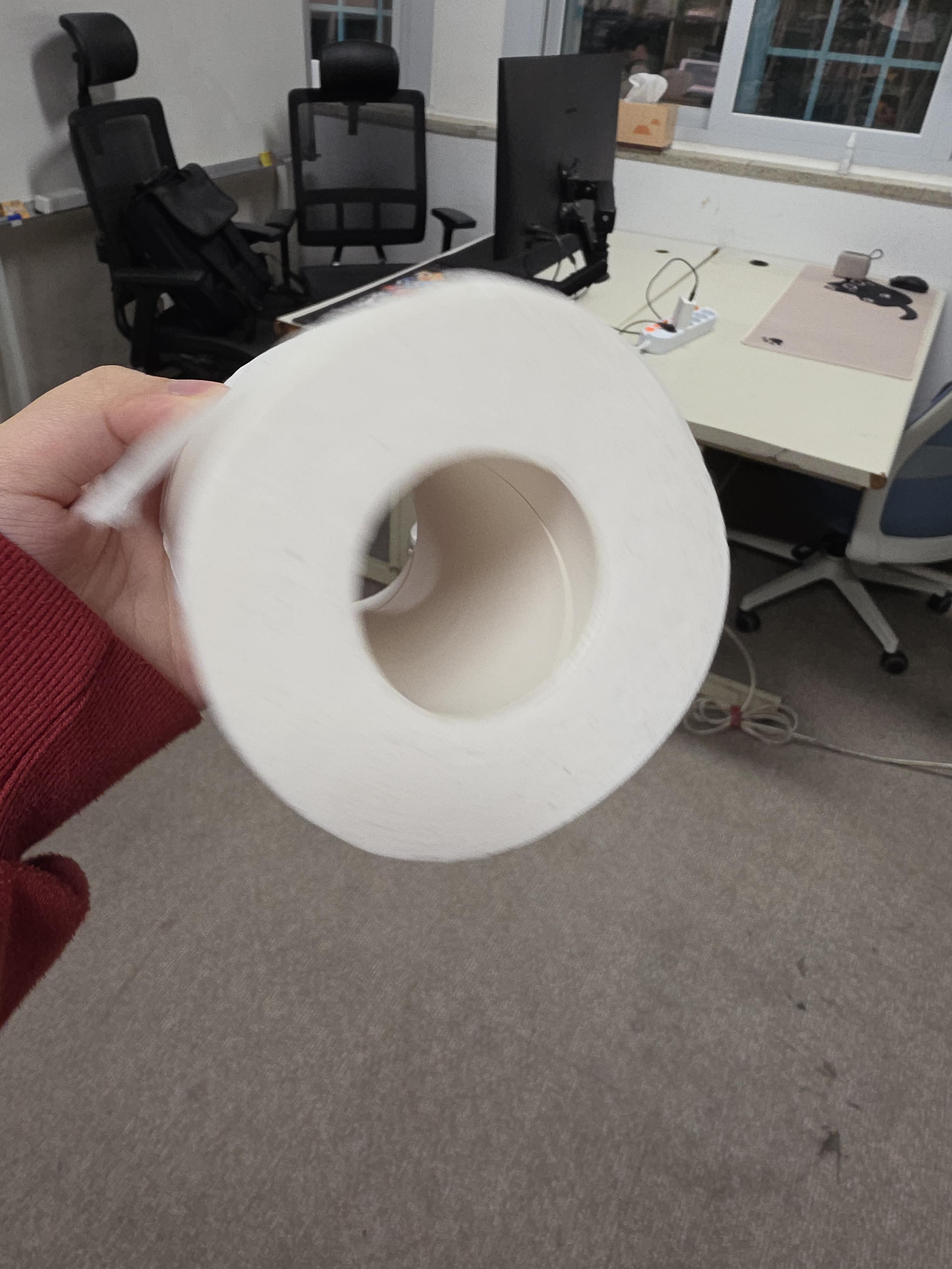tissue: (74, 266, 733, 865), (616, 72, 678, 152)
